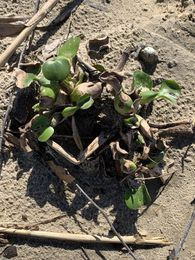water_hyacinth: (9, 23, 190, 213)
